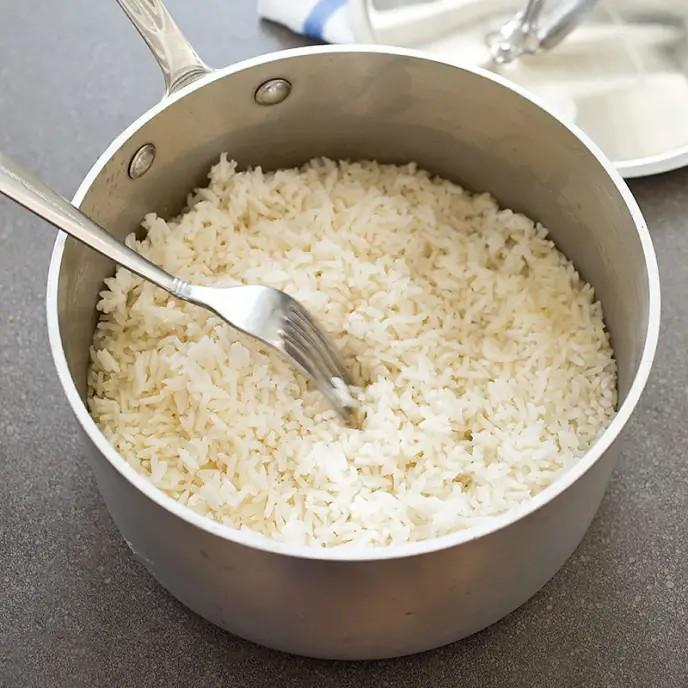WhiteRice: (87, 155, 620, 555)
